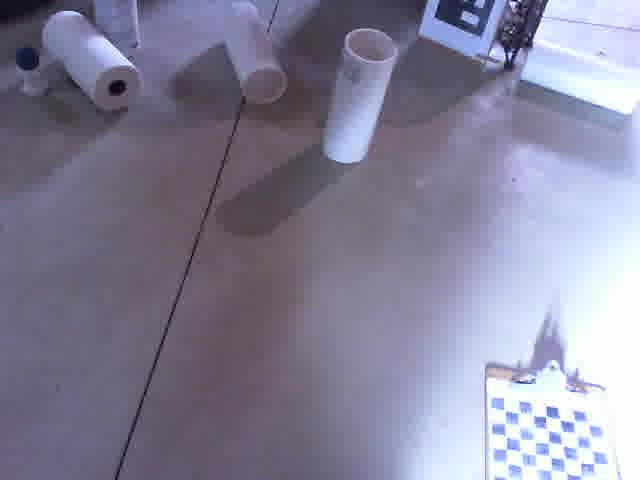coral: (317, 16, 401, 170), (519, 34, 640, 117), (214, 0, 293, 106)
